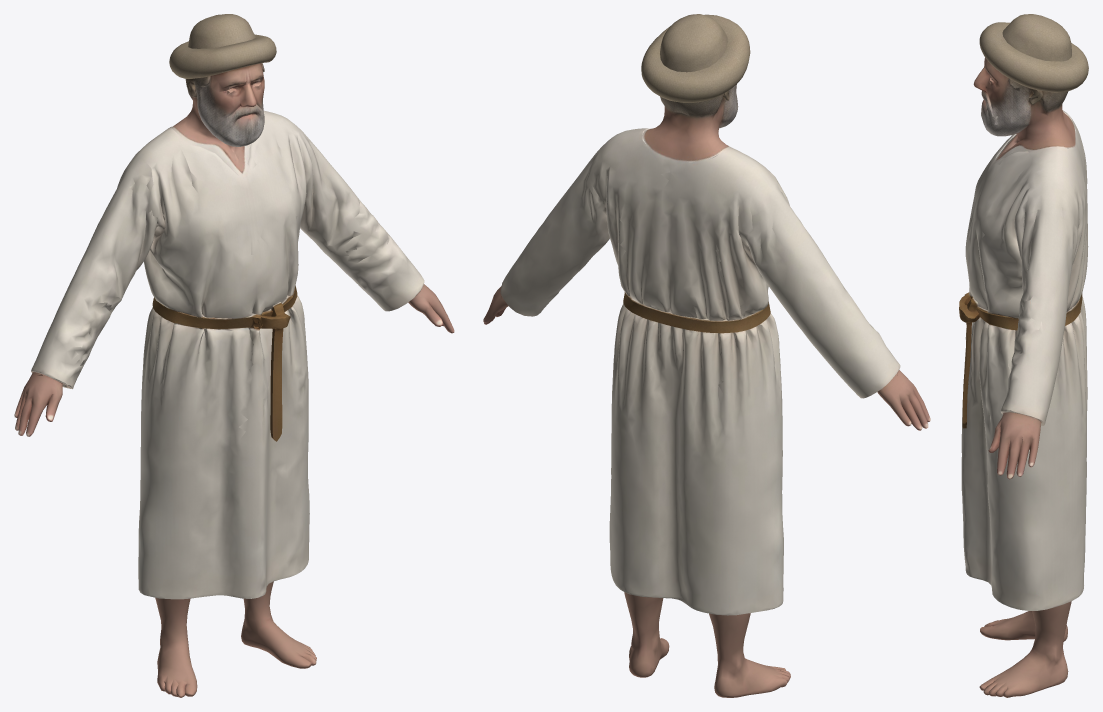
File: israelite_chapeau_2.glb
3 renders of one model, left to right at view 1: azimuth 30°, elevation 25°; view 2: azimuth 150°, elevation 25°; view 3: azimuth 270°, elevation 25°, orthographic. The views are drawn at different scales.
Visible parts, largest first — view 1: Mesh; view 2: Mesh; view 3: Mesh.
Part boxes in pixels (x1,y1,x2,y2): Mesh: [14, 14, 454, 697]; Mesh: [483, 14, 930, 697]; Mesh: [959, 14, 1088, 697].
Bounding box in the file's own units: 1.33 × 1.9 × 0.3459.
Materials: 1 (1 with a texture image).
